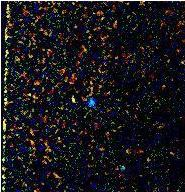star: (56, 84, 86, 114)
